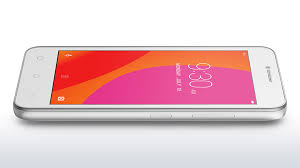lenovo: (8, 41, 290, 128)
